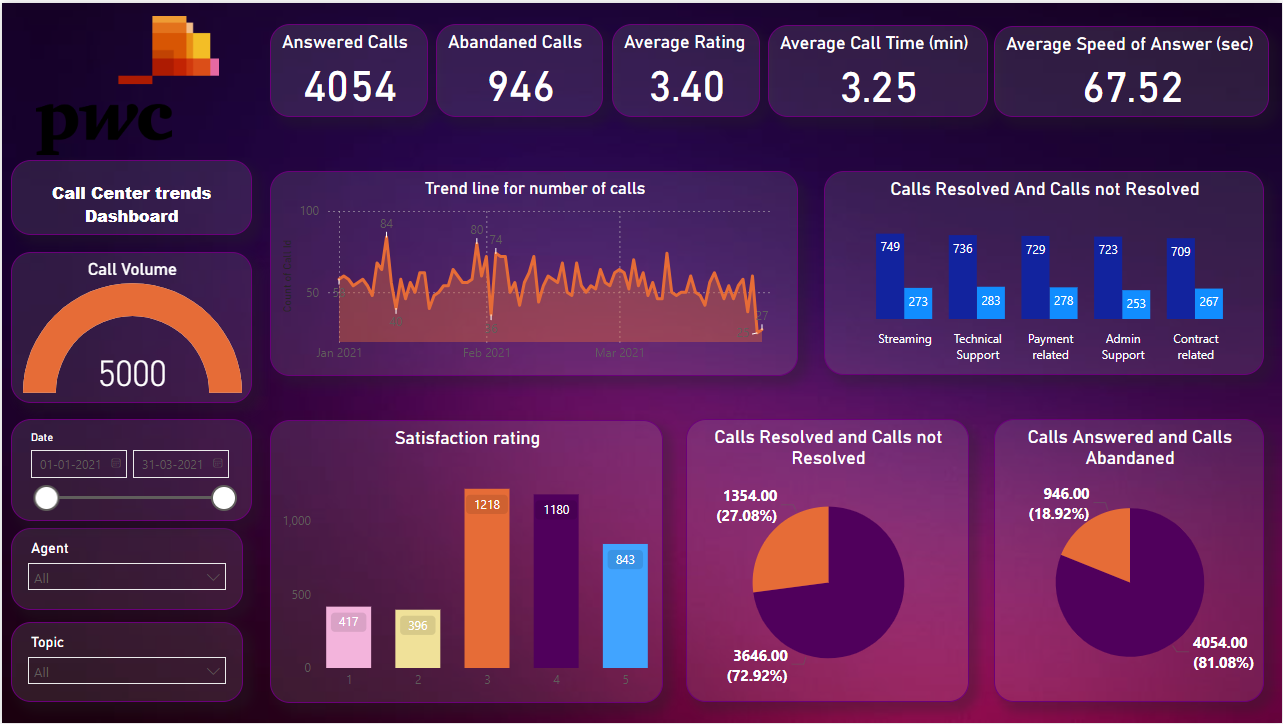

This screenshot's page, from the dashboard's own definition file:
{"tool":"powerbi","page":{"name":"Page 1","canvas":[1280,720],"ordinal":0},"visuals":[{"type":"card","title":"Answered Calls","fields":{"Values":["CountNonNull(Sheet1.Answered (Y/N))"]},"box":[268,21,158,93],"z":0},{"type":"card","title":"Abandaned Calls","fields":{"Values":["CountNonNull(Sheet1.Answered (Y/N))"]},"box":[434,21,167,93],"z":1000},{"type":"card","title":"Average Rating","fields":{"Values":["Avg(Sheet1.Satisfaction rating)"]},"box":[610,21,148,93],"z":2000},{"type":"card","title":"Average Call Time (min)","fields":{"Values":["Avg(Sheet1.AvgTalkDuration)"]},"box":[766,22,220,92],"z":3000},{"type":"card","title":"Average Speed of Answer (sec)","fields":{"Values":["Avg(Sheet1.Speed of answer in seconds)"]},"box":[992,23,275,91],"z":4000},{"type":"pieChart","title":"Calls Answered and Calls Abandaned","fields":{"Category":["Sheet1.Answered (Y/N)"],"Y":["CountNonNull(Sheet1.Answered (Y/N))"]},"box":[992.2,415.6,270,283.3],"z":5000},{"type":"pieChart","title":"Calls Resolved and Calls not Resolved","fields":{"Category":["Sheet1.Resolved"],"Y":["CountNonNull(Sheet1.Resolved)"]},"box":[684.4,415.6,282.2,283.3],"z":6000},{"type":"ribbonChart","title":"Satisfaction rating","fields":{"Category":["Sheet1.Satisfaction rating"],"Y":["CountNonNull(Sheet1.Call Id)"]},"box":[268,417,393,283],"z":7000},{"type":"lineClusteredColumnComboChart","title":"Calls Resolved And Calls not Resolved","fields":{"Category":["Sheet1.Topic"],"Y":["CountNonNull(Sheet1.Answered (Y/N))"],"Series":["Sheet1.Resolved"]},"box":[822,168,440,204],"z":8000},{"type":"areaChart","title":"Trend line for number of calls","fields":{"Category":["Sheet1.Date"],"Y":["CountNonNull(Sheet1.Call Id)"]},"box":[268,168,528,205],"z":9000},{"type":"slicer","fields":{"Values":["Sheet1.Agent"]},"box":[9,525,232,82],"z":10000},{"type":"slicer","fields":{"Values":["Sheet1.Topic"]},"box":[9,619,232,80],"z":11000},{"type":"slicer","fields":{"Values":["Sheet1.Date"]},"box":[9,416,241,102],"z":12000},{"type":"image","box":[9,8,232,149],"z":13000},{"type":"textbox","box":[9,157,241,75],"z":14000},{"type":"gauge","title":"Call Volume","fields":{"Y":["CountNonNull(Sheet1.Call Id)"],"MaxValue":["CountNonNull(Sheet1.Call Id)"]},"box":[9,249,241,151],"z":15000}]}

Visuals, with their boxes in screenshot pixels (x1, y1, x2, y2), scaled from the page's 1280x720 canvas onto the 1283x724 screenshot:
"Answered Calls" card: bbox=(269, 21, 427, 115)
"Abandaned Calls" card: bbox=(435, 21, 602, 115)
"Average Rating" card: bbox=(611, 21, 760, 115)
"Average Call Time (min)" card: bbox=(768, 22, 988, 115)
"Average Speed of Answer (sec)" card: bbox=(994, 23, 1270, 115)
"Calls Answered and Calls Abandaned" pieChart: bbox=(995, 418, 1265, 703)
"Calls Resolved and Calls not Resolved" pieChart: bbox=(686, 418, 969, 703)
"Satisfaction rating" ribbonChart: bbox=(269, 419, 663, 704)
"Calls Resolved And Calls not Resolved" lineClusteredColumnComboChart: bbox=(824, 169, 1265, 374)
"Trend line for number of calls" areaChart: bbox=(269, 169, 798, 375)
slicer - Sheet1.Agent: bbox=(9, 528, 242, 610)
slicer - Sheet1.Topic: bbox=(9, 622, 242, 703)
slicer - Sheet1.Date: bbox=(9, 418, 251, 521)
image: bbox=(9, 8, 242, 158)
textbox: bbox=(9, 158, 251, 233)
"Call Volume" gauge: bbox=(9, 250, 251, 402)
